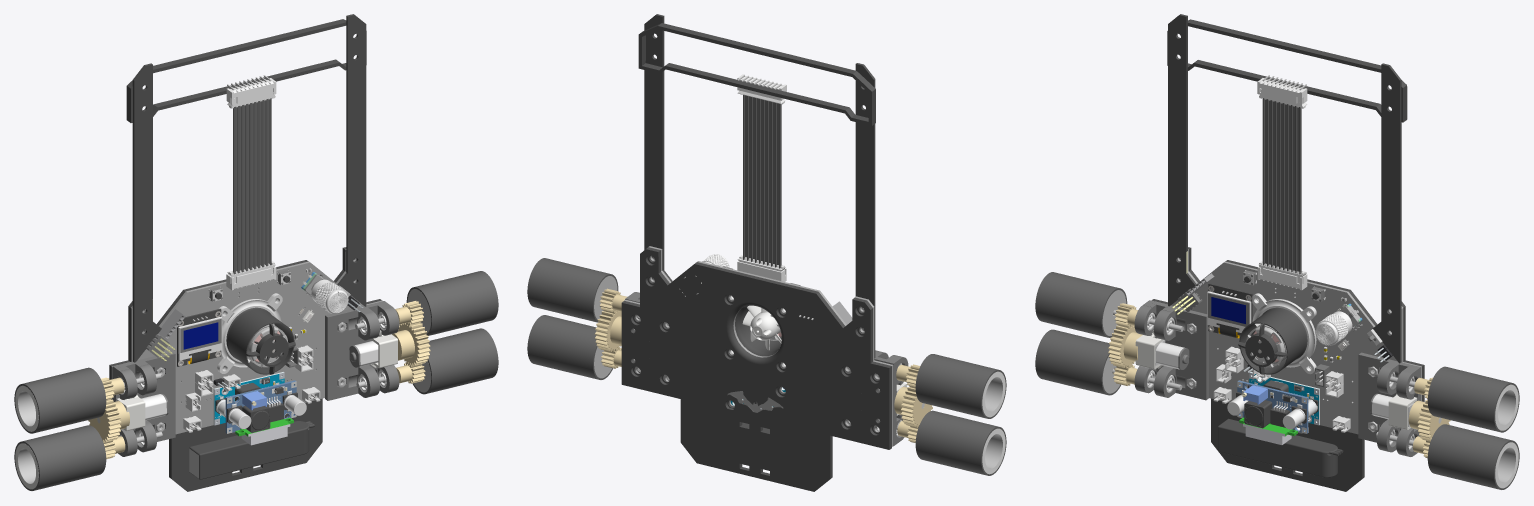
The model's file is LFR.glb.
3 views of the same model, side by side, from view 1: azimuth 30°, elevation 25°; view 2: azimuth 150°, elevation 25°; view 3: azimuth 330°, elevation 25° (orthographic).
Parts seen in each view (by area): view 1: Component1_1.step-1 (×4), Board_1.step-1, Board.step-1, Component7.step-1 (×2), Component10.step-1, Component1_2.step-1, GForce 20C 1000mAh 2S 7.4V LiPO.step-1, PCBModel_1-5.step-1, XTU-SY-8.step-1, 28_teeth gear 3.0 mm.step-1 (×2), User Library-128x64I2COLEDDisplayAdafruit.step-1, EDF1-4.step-1 (+13 smaller); view 2: Component1_2.step-1, Component1_1.step-1 (×4), Board_1.step-1, PCBModel_1-5.step-1, Component10.step-1, 28_teeth gear 3.0 mm.step-1 (×2), Board.step-1, Component2_2.step-1, EDF1-4.step-1, Wheel New_3-3.step-1, Wheel New_2-2.step-1, Component7.step-1 (+1 smaller); view 3: Component1_1.step-1 (×4), Board_1.step-1, Board.step-1, Component7.step-1 (×2), Component1_2.step-1, Component10.step-1, GForce 20C 1000mAh 2S 7.4V LiPO.step-1, PCBModel_1-5.step-1, XTU-SY-8.step-1, User Library-128x64I2COLEDDisplayAdafruit.step-1, 28_teeth gear 3.0 mm.step-1 (×2), EDF1-4.step-1 (+13 smaller).
Part boxes in pixels (box(x1,y1,x2,y2)): Component1_1.step-1 (×4): box(14, 271, 498, 490); Board_1.step-1: box(132, 14, 366, 362); Board.step-1: box(111, 249, 382, 434); Component7.step-1 (×2): box(113, 301, 399, 456); Component10.step-1: box(233, 99, 269, 271); Component1_2.step-1: box(109, 247, 381, 491); GForce 20C 1000mAh 2S 7.4V LiPO.step-1: box(189, 421, 314, 479); PCBModel_1-5.step-1: box(126, 19, 366, 122); XTU-SY-8.step-1: box(225, 380, 306, 433); 28_teeth gear 3.0 mm.step-1 (×2): box(88, 323, 430, 442); User Library-128x64I2COLEDDisplayAdafruit.step-1: box(177, 309, 222, 366); EDF1-4.step-1: box(226, 307, 294, 374); Component1_2.step-1: box(621, 247, 891, 491); Component1_1.step-1 (×4): box(527, 258, 1006, 475); Board_1.step-1: box(644, 14, 875, 358); PCBModel_1-5.step-1: box(638, 23, 875, 125); Component10.step-1: box(745, 95, 781, 265); 28_teeth gear 3.0 mm.step-1 (×2): box(594, 310, 932, 427); Board.step-1: box(624, 246, 893, 446); Component2_2.step-1: box(742, 305, 781, 350); EDF1-4.step-1: box(735, 306, 780, 356); Wheel New_3-3.step-1: box(982, 371, 1005, 417); Wheel New_2-2.step-1: box(982, 428, 1005, 474); Component7.step-1: box(846, 350, 908, 446); Component1_1.step-1 (×4): box(1035, 272, 1519, 489); Board_1.step-1: box(1168, 14, 1401, 363); Board.step-1: box(1155, 249, 1421, 434); Component7.step-1 (×2): box(1134, 300, 1420, 456); Component1_2.step-1: box(1151, 247, 1424, 491); Component10.step-1: box(1262, 98, 1301, 271); GForce 20C 1000mAh 2S 7.4V LiPO.step-1: box(1217, 418, 1343, 477); PCBModel_1-5.step-1: box(1167, 19, 1407, 122); XTU-SY-8.step-1: box(1227, 380, 1308, 433); User Library-128x64I2COLEDDisplayAdafruit.step-1: box(1207, 283, 1252, 338); 28_teeth gear 3.0 mm.step-1 (×2): box(1108, 325, 1450, 441); EDF1-4.step-1: box(1239, 307, 1307, 374).
Size of the model in its own units: 0.2839 by 0.2595 by 0.0332.
